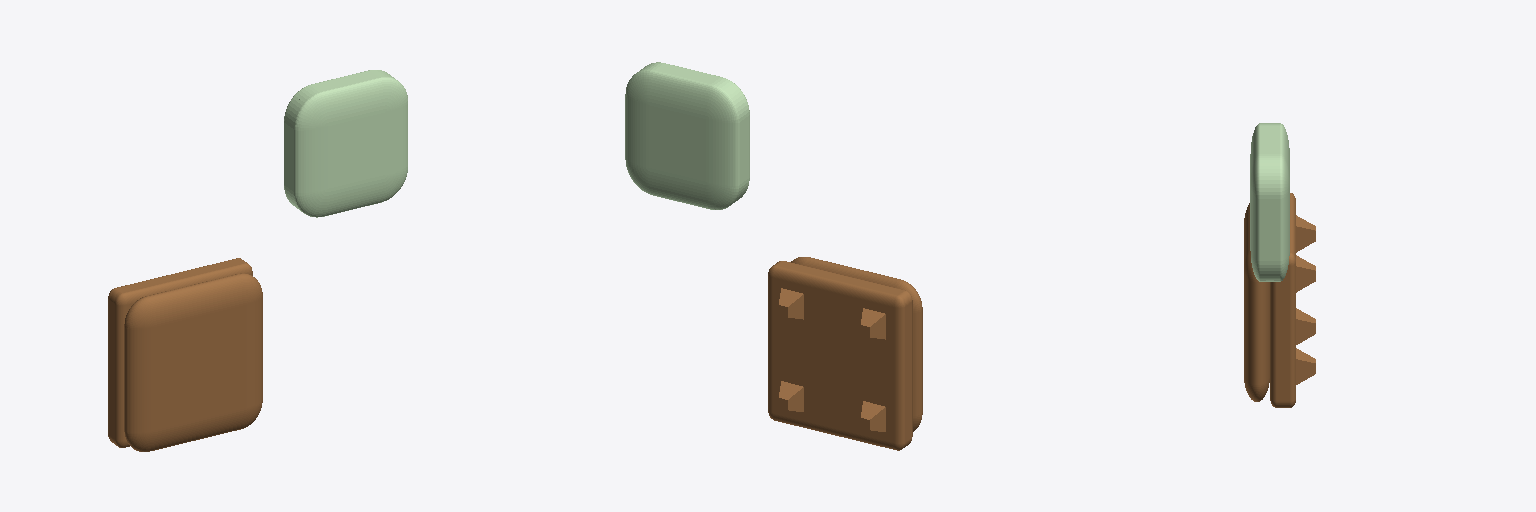
File: tinker.obj
3 renders of one model, left to right at view 1: azimuth 30°, elevation 25°; view 2: azimuth 150°, elevation 25°; view 3: azimuth 270°, elevation 25°, orthographic.
Parts seen in each view (by area): view 1: obj_0; view 2: obj_0; view 3: obj_0.
Boxes of the visible parts, x1,y1,x2,y2 form: obj_0: [108, 70, 407, 451]; obj_0: [625, 62, 922, 450]; obj_0: [1244, 123, 1315, 407].
Size of the model in its own units: 50 by 53 by 11.